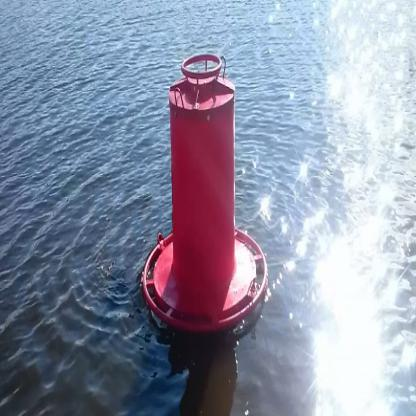Buoy: (138, 40, 276, 341)
